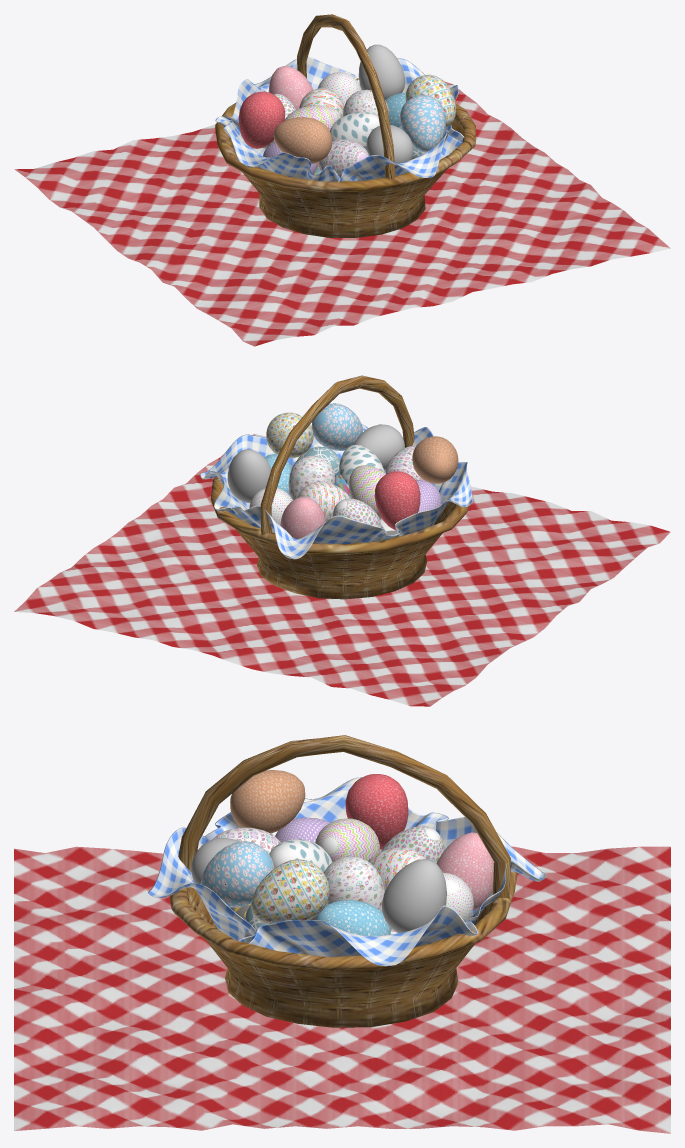
3 renders of one model, top to bottom at view 1: azimuth 30°, elevation 25°; view 2: azimuth 150°, elevation 25°; view 3: azimuth 270°, elevation 25°, orthographic. The views are drawn at different scales.
Parts seen in each view (by area): view 1: Plane, basket_hp:ring, Plane.002, Sphere.008, Sphere.001, Sphere.012, Sphere.006, Sphere.011, Sphere.025, Sphere.021, Sphere.004, Sphere.016 (+4 smaller); view 2: Plane, basket_hp:ring, Plane.002, Sphere.001, Sphere.012, Sphere.008, Sphere.006, Sphere.021, Sphere.011, Sphere.016, Sphere.014, Sphere.002 (+6 smaller); view 3: Plane, basket_hp:ring, Plane.002, Sphere.011, Sphere.008, Sphere.006, Sphere.012, Sphere.001, Sphere.021, Sphere.014, Sphere.002, Sphere.018 (+7 smaller).
Boxes of the visible parts, <box> form: Plane: <box>14,74,670,346</box>; basket_hp:ring: <box>215,14,475,237</box>; Plane.002: <box>215,56,464,182</box>; Sphere.008: <box>273,117,331,163</box>; Sphere.001: <box>238,91,285,148</box>; Sphere.012: <box>400,95,445,152</box>; Sphere.006: <box>358,44,405,99</box>; Sphere.011: <box>405,75,456,127</box>; Sphere.025: <box>330,112,379,149</box>; Sphere.021: <box>268,65,313,109</box>; Sphere.004: <box>318,139,368,177</box>; Sphere.016: <box>366,124,413,163</box>; Plane: <box>14,434,670,706</box>; basket_hp:ring: <box>210,375,468,599</box>; Plane.002: <box>200,423,472,559</box>; Sphere.001: <box>374,471,420,530</box>; Sphere.012: <box>311,403,362,450</box>; Sphere.008: <box>412,436,458,483</box>; Sphere.006: <box>227,449,271,502</box>; Sphere.021: <box>280,497,325,538</box>; Sphere.011: <box>266,412,313,458</box>; Sphere.016: <box>353,424,404,470</box>; Sphere.014: <box>288,455,335,500</box>; Sphere.002: <box>349,465,385,518</box>; Plane: <box>14,846,670,1133</box>; basket_hp:ring: <box>170,735,517,1027</box>; Plane.002: <box>148,777,547,966</box>; Sphere.011: <box>251,859,329,924</box>; Sphere.008: <box>230,770,305,833</box>; Sphere.006: <box>382,859,446,933</box>; Sphere.012: <box>200,841,274,907</box>; Sphere.001: <box>345,774,408,849</box>; Sphere.021: <box>436,832,493,910</box>; Sphere.014: <box>324,856,384,912</box>; Sphere.002: <box>315,818,379,862</box>; Sphere.018: <box>315,900,390,935</box>.
Size of the model in its own units: 2087 by 920 by 2087.
